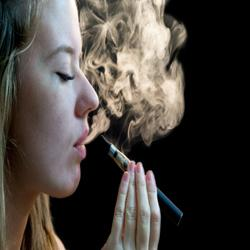smoking: (69, 124, 187, 233)
